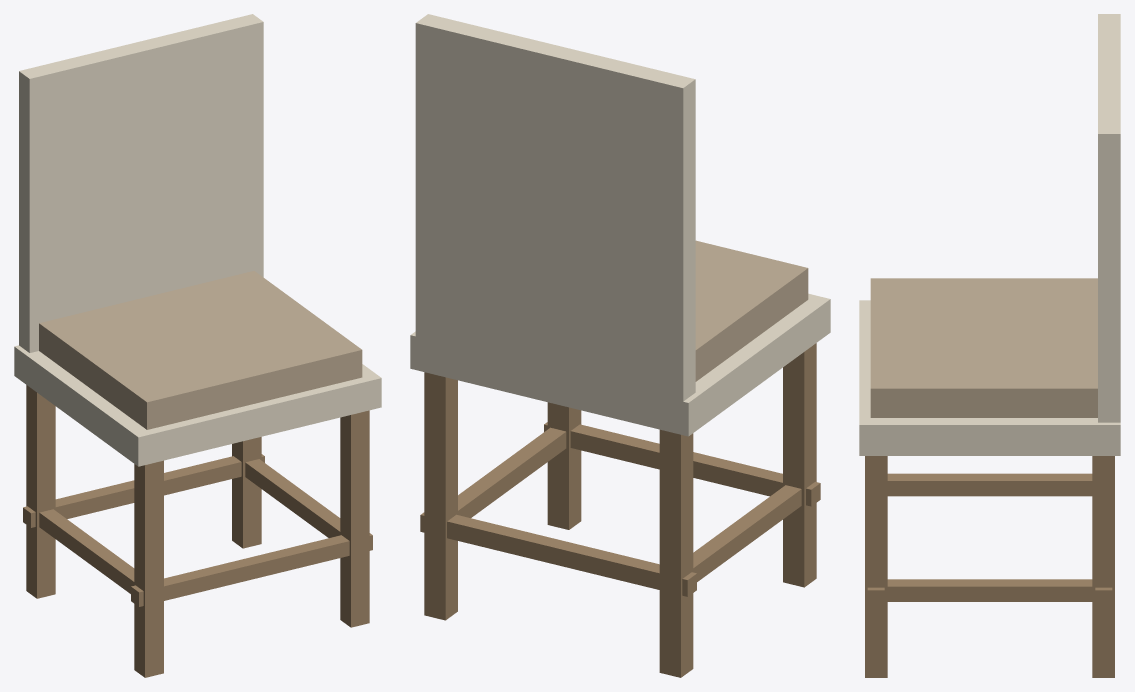
The model's file is office_chair.glb.
The picture shows the model from 3 angles, left to right: view 1: azimuth 30°, elevation 25°; view 2: azimuth 150°, elevation 25°; view 3: azimuth 270°, elevation 25°; orthographic projection. The views are drawn at different scales.
Visible parts, largest first — view 1: backrest, cushion, seat, leg_fl, leg_fr, leg_bl, rung_f, rung_b, leg_br, rung_l, rung_r; view 2: backrest, seat, cushion, leg_bl, leg_br, leg_fl, rung_b, rung_f, leg_fr, rung_l, rung_r; view 3: cushion, seat, backrest, rung_l, leg_fr, leg_br, rung_r.
Boxes of the visible parts, bbox=[...] form: backrest: bbox=[19, 14, 263, 352]; cushion: bbox=[39, 271, 362, 429]; seat: bbox=[14, 345, 381, 466]; leg_fl: bbox=[134, 460, 163, 677]; leg_fr: bbox=[340, 410, 369, 627]; leg_bl: bbox=[26, 385, 55, 598]; rung_f: bbox=[131, 533, 372, 606]; rung_b: bbox=[23, 454, 264, 527]; leg_br: bbox=[232, 437, 261, 548]; rung_l: bbox=[39, 509, 134, 593]; rung_r: bbox=[245, 459, 340, 537]; backrest: bbox=[415, 14, 695, 401]; seat: bbox=[410, 293, 830, 436]; cushion: bbox=[695, 240, 808, 381]; leg_bl: bbox=[659, 429, 693, 677]; leg_br: bbox=[424, 372, 457, 620]; leg_fl: bbox=[783, 343, 816, 587]; rung_b: bbox=[420, 512, 696, 596]; rung_f: bbox=[544, 422, 820, 506]; leg_fr: bbox=[547, 402, 581, 529]; rung_l: bbox=[693, 485, 801, 581]; rung_r: bbox=[458, 427, 566, 517]; cushion: bbox=[870, 278, 1097, 417]; seat: bbox=[859, 300, 1120, 455]; backrest: bbox=[1098, 14, 1120, 422]; rung_l: bbox=[887, 473, 1092, 496]; leg_fr: bbox=[865, 456, 887, 677]; leg_br: bbox=[1092, 456, 1114, 677]; rung_r: bbox=[887, 579, 1092, 601].
Bounding box in the file's own units: 0.52 × 1.06 × 0.46.
